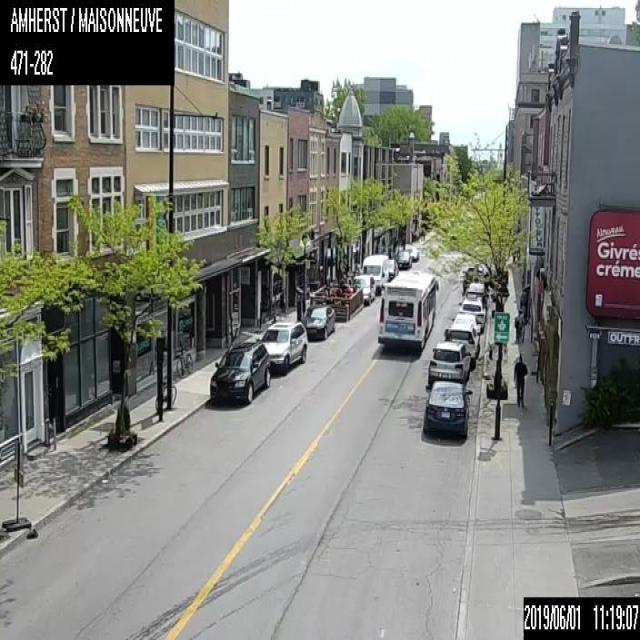bus: (377, 267, 438, 352)
pedestrian: (512, 354, 528, 406), (512, 310, 522, 344), (391, 235, 396, 258)
vehicle: (208, 339, 271, 404), (422, 379, 472, 435), (256, 320, 307, 374), (428, 341, 470, 386), (443, 322, 480, 365), (300, 304, 334, 339), (361, 253, 388, 293), (457, 297, 486, 331), (350, 273, 376, 305), (451, 312, 481, 336), (464, 281, 488, 305), (462, 266, 488, 287), (397, 250, 410, 264), (387, 257, 397, 275), (408, 248, 418, 259)
